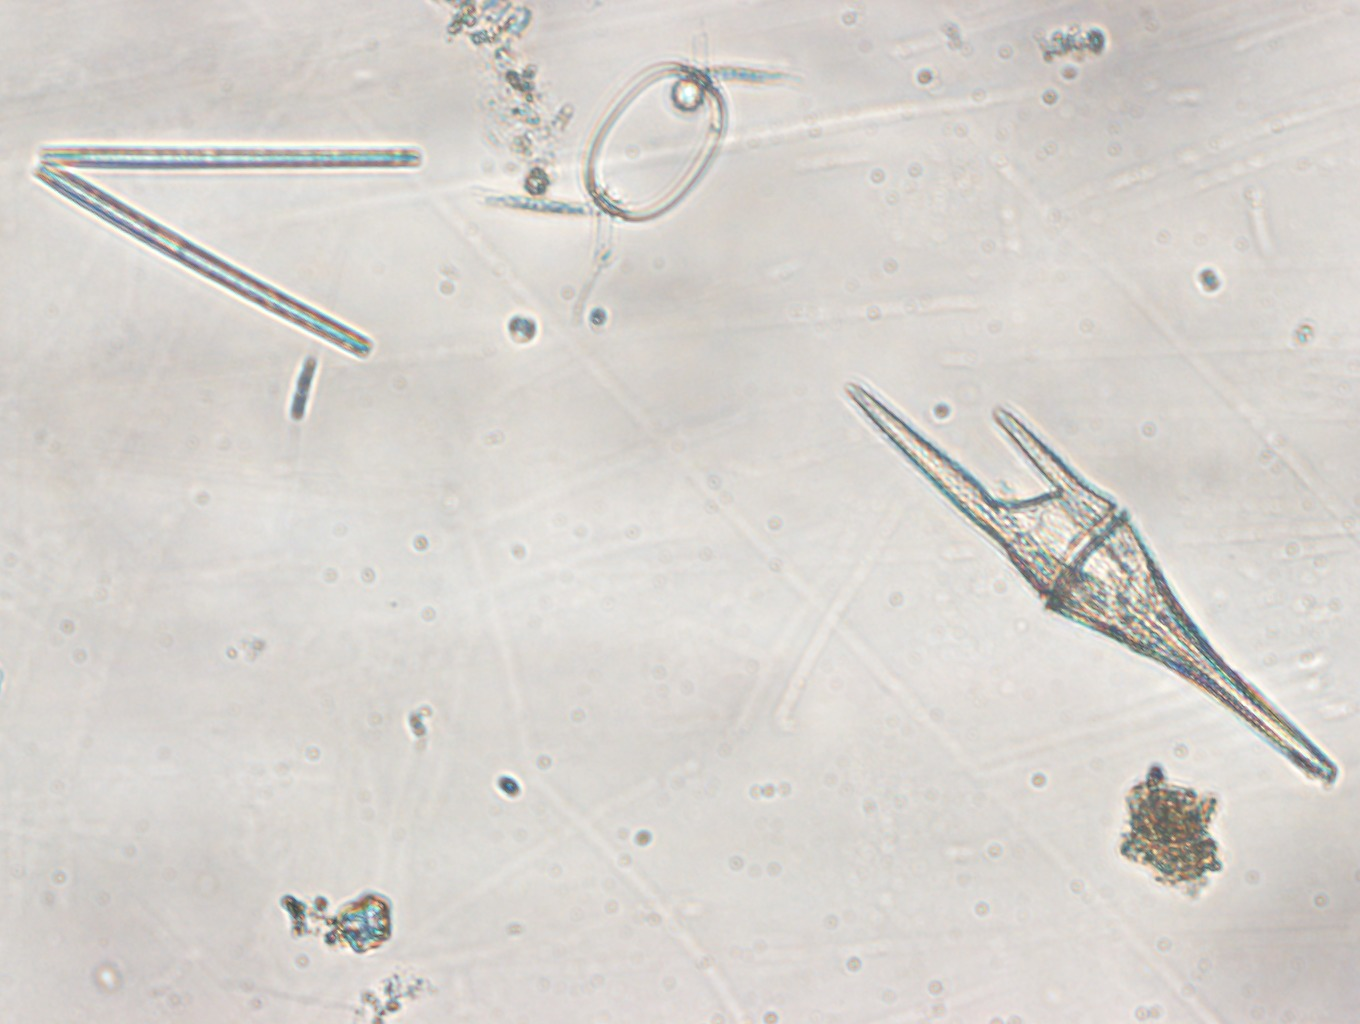ceratium furca: (843, 376, 1346, 790)
chaetoceros: (460, 19, 805, 325)
thalassionema nitzschioides: (29, 139, 426, 360)
